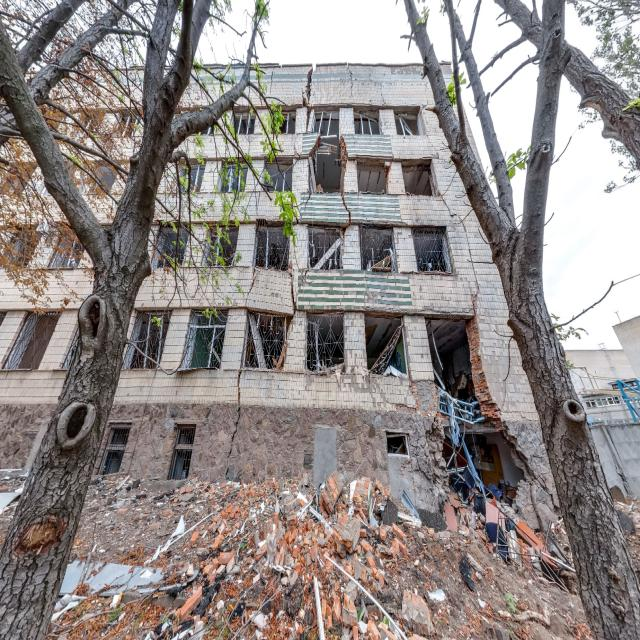broken_window: (179, 307, 228, 372), (122, 308, 170, 370), (364, 313, 408, 379), (310, 109, 342, 193), (244, 309, 286, 371), (305, 312, 345, 374), (411, 225, 452, 274), (359, 222, 397, 274), (253, 220, 290, 272), (98, 422, 131, 476), (202, 221, 239, 268), (167, 422, 196, 481), (307, 225, 343, 271), (394, 110, 422, 136), (385, 430, 410, 459), (354, 112, 381, 135)
